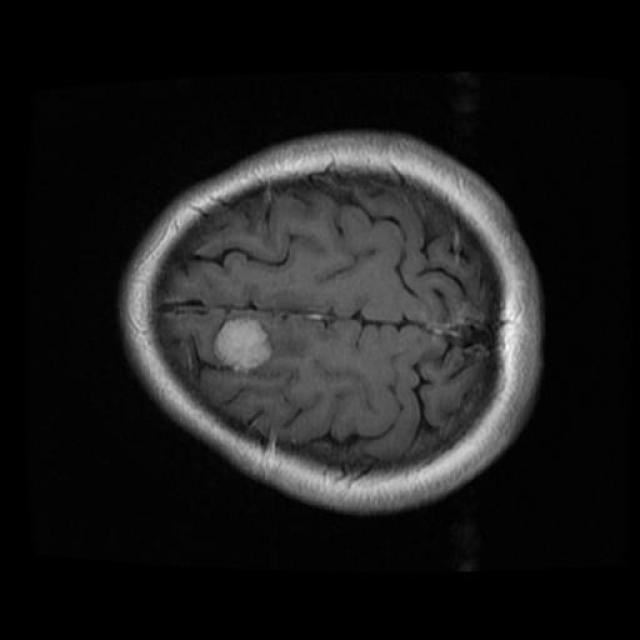Meningioma: (214, 319, 271, 371)
